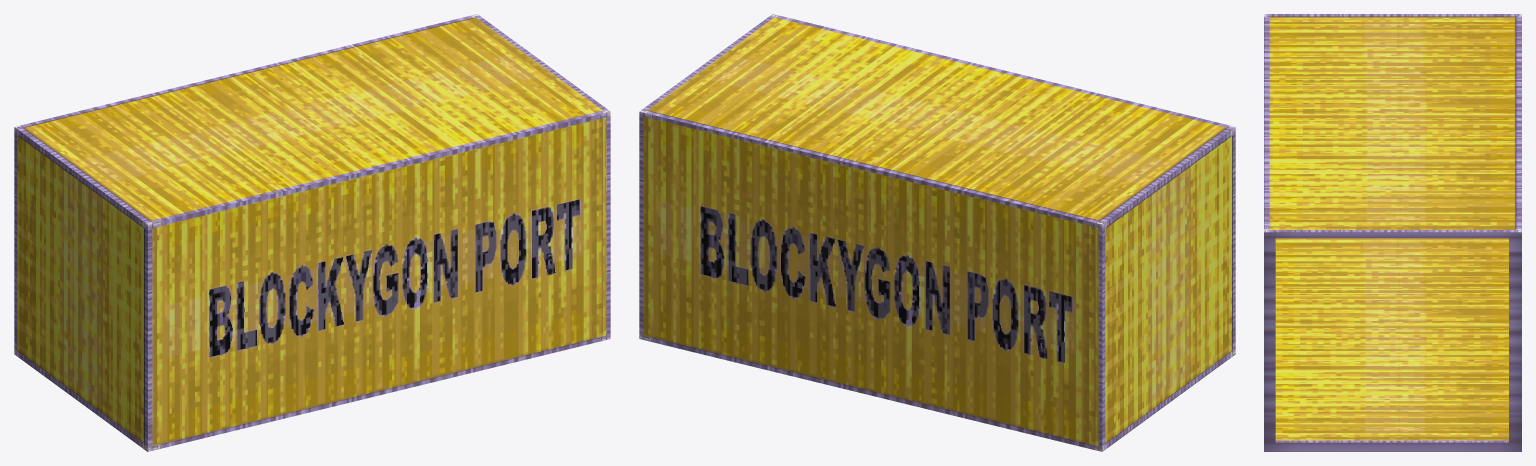
The model's file is BLOCKYGON_YELLOW CONTAINER(HALF OPEN).fbx.
3 renders of one model, left to right at view 1: azimuth 30°, elevation 25°; view 2: azimuth 150°, elevation 25°; view 3: azimuth 270°, elevation 25°, orthographic. The views are drawn at different scales.
Visible parts, largest first — view 1: BLOCKYGON_YELLOW_CONTAINER_HALF_OPEN_; view 2: BLOCKYGON_YELLOW_CONTAINER_HALF_OPEN_; view 3: BLOCKYGON_YELLOW_CONTAINER_HALF_OPEN_.
Boxes of the visible parts, x1,y1,x2,y2 form: BLOCKYGON_YELLOW_CONTAINER_HALF_OPEN_: (14, 14, 610, 451); BLOCKYGON_YELLOW_CONTAINER_HALF_OPEN_: (639, 14, 1235, 451); BLOCKYGON_YELLOW_CONTAINER_HALF_OPEN_: (1264, 14, 1521, 451).
Bounding box in the file's own units: 435 × 204 × 217.
1 material, 1 textured.
